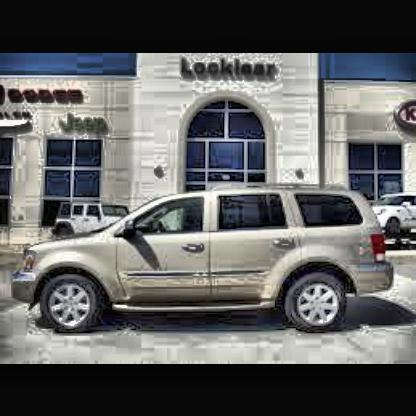Chrysler Aspen SUV 2009: (11, 185, 394, 344)
